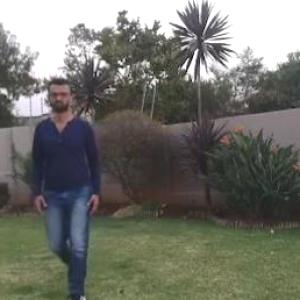follow: (42, 90, 96, 282)
